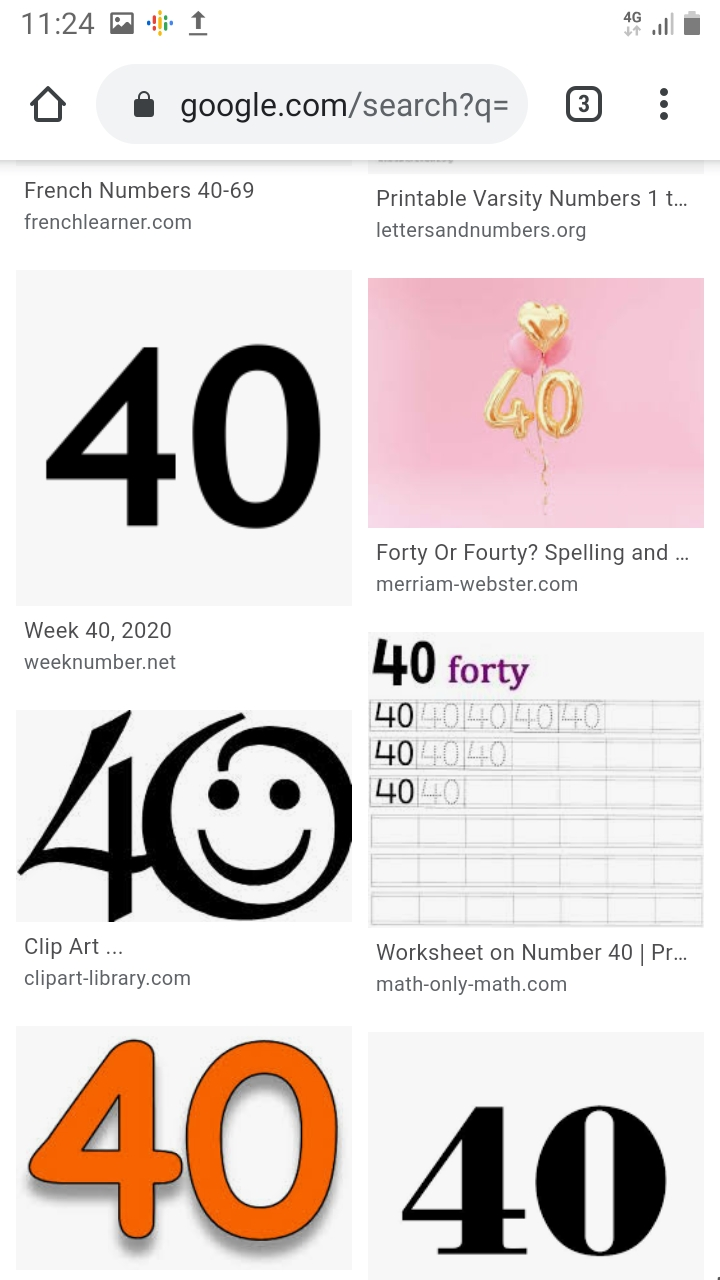40 kph: (33, 284, 333, 590), (17, 1023, 342, 1280), (13, 694, 349, 927), (384, 1072, 704, 1280), (464, 361, 610, 466), (361, 614, 443, 696)
